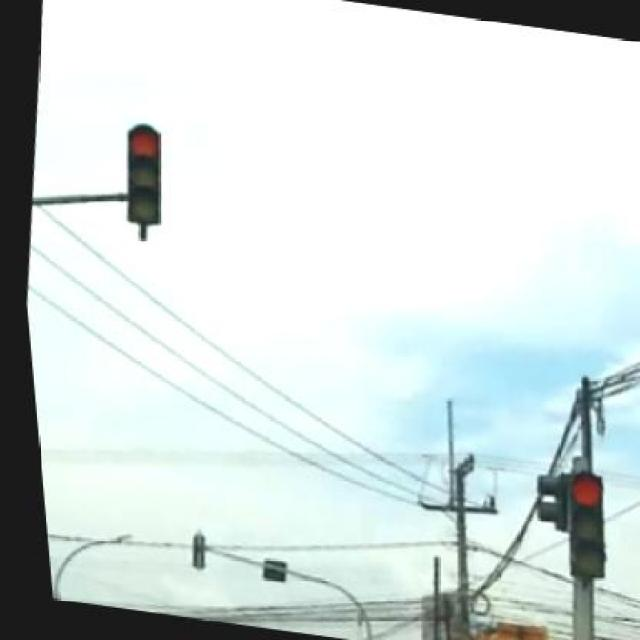red_light: (545, 468, 609, 580), (109, 124, 171, 227)
